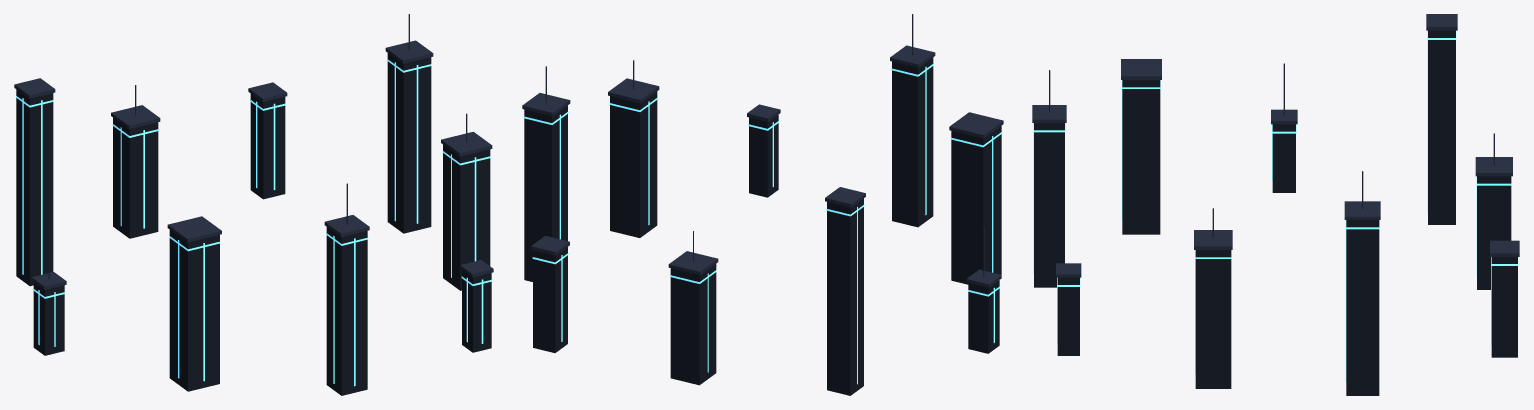
The picture shows the model from 3 angles, left to right: view 1: azimuth 30°, elevation 25°; view 2: azimuth 150°, elevation 25°; view 3: azimuth 270°, elevation 25°; orthographic projection. The views are drawn at different scales.
Visible parts, largest first — view 1: nexo_spires_arcade.lod0; view 2: nexo_spires_arcade.lod0; view 3: nexo_spires_arcade.lod0.
Boxes of the visible parts, bbox=[...] form: nexo_spires_arcade.lod0: bbox=[14, 14, 493, 395]; nexo_spires_arcade.lod0: bbox=[522, 14, 1003, 395]; nexo_spires_arcade.lod0: bbox=[1032, 14, 1519, 395].
Size of the model in its own units: 25.99 by 12.3 by 24.95.
